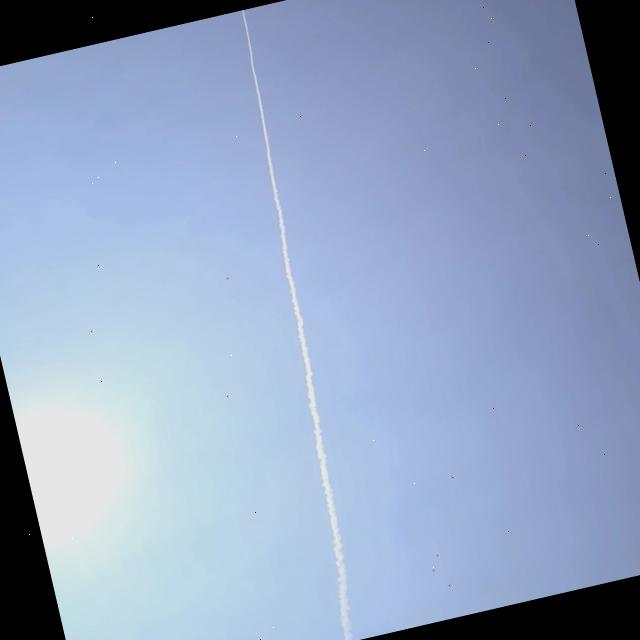smoke_trail_with_rocket: (265, 149, 352, 640)
